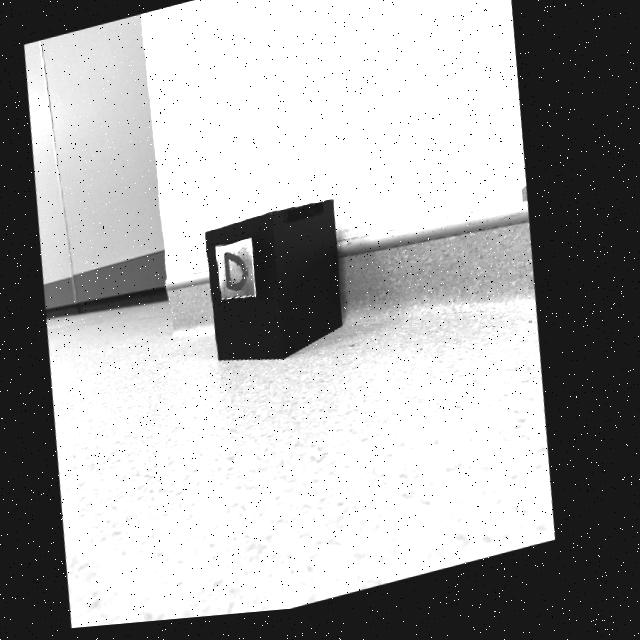D: (230, 257, 253, 295)
